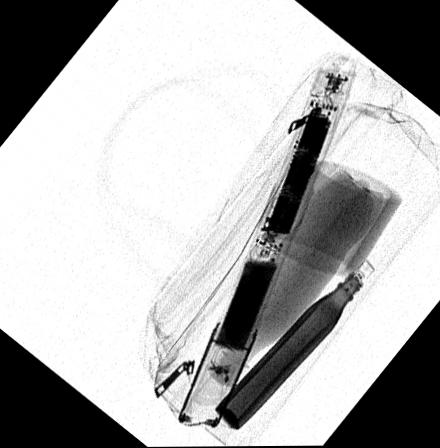Baton: (175, 67, 356, 428)
